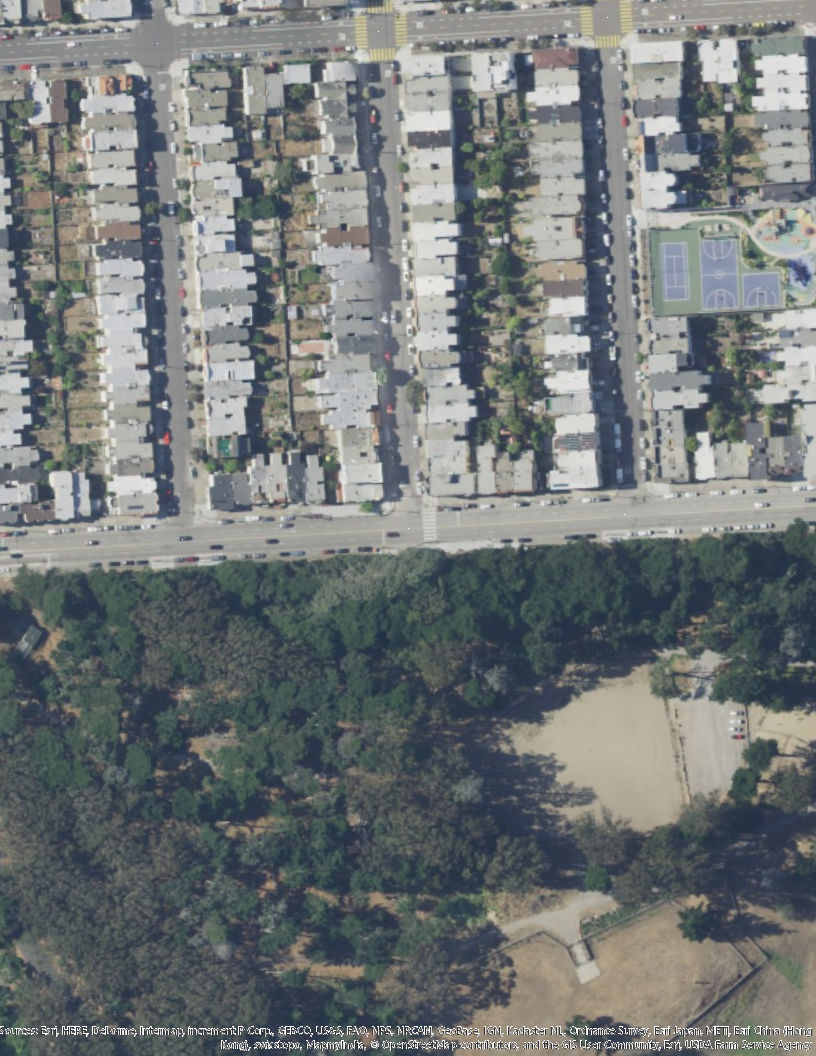zebracross: (353, 14, 369, 50), (422, 508, 437, 543), (579, 3, 594, 37), (619, 1, 634, 33), (592, 35, 625, 49), (393, 12, 406, 46), (368, 48, 396, 62), (367, 1, 393, 14)
